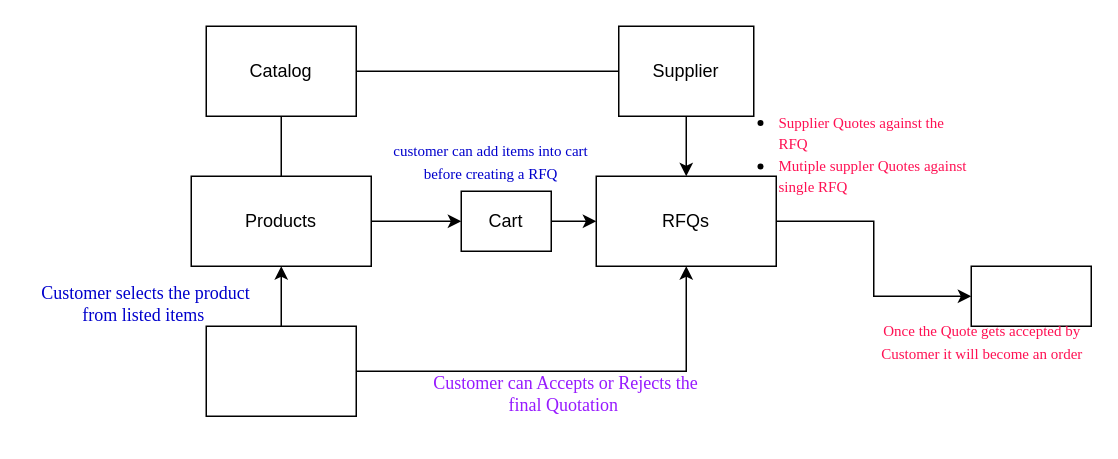
Some shapes in this 1118 by 459 pixel diagram are drawn without their labels. Each missing label, with the centre of its shape:
"Customers" belongs at (x=280, y=370).
"Orders" belongs at (x=1030, y=295).
